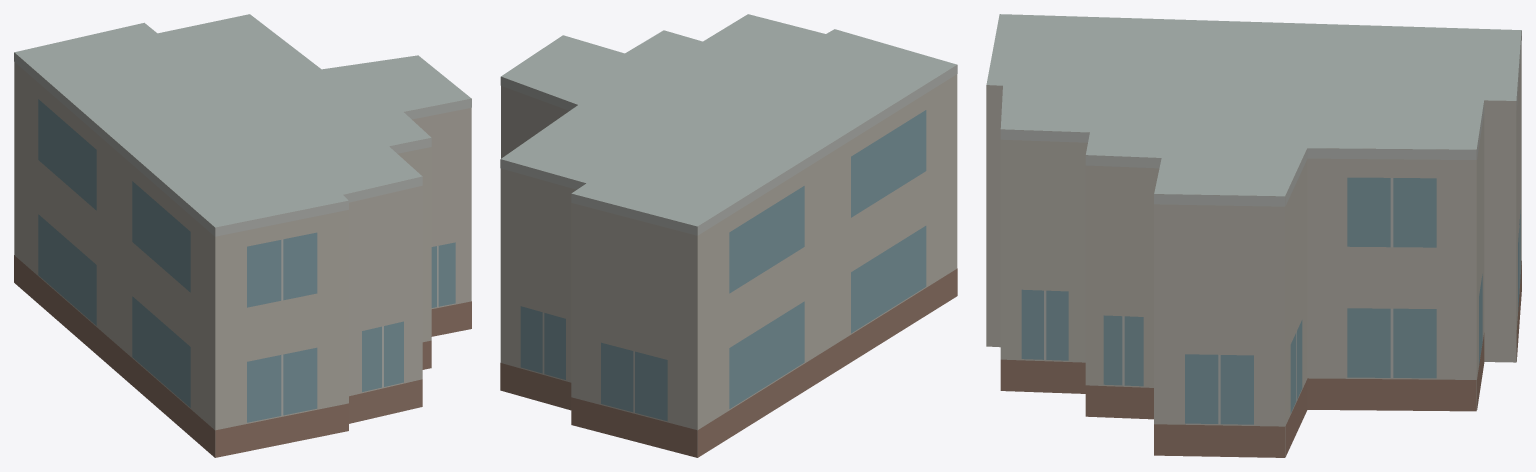
The model's file is survey-upis-32798603.glb.
The picture shows the model from 3 angles, left to right: view 1: azimuth 30°, elevation 25°; view 2: azimuth 150°, elevation 25°; view 3: azimuth 270°, elevation 25°; orthographic projection. The views are drawn at different scales.
Visible parts, largest first — view 1: survey-upis-32798603.tmp; view 2: survey-upis-32798603.tmp; view 3: survey-upis-32798603.tmp.
Boxes of the visible parts, x1=… form: survey-upis-32798603.tmp: x1=14, y1=14, x2=471, y2=457; survey-upis-32798603.tmp: x1=500, y1=14, x2=957, y2=457; survey-upis-32798603.tmp: x1=986, y1=14, x2=1521, y2=457.
Size of the model in its own units: 9.13 by 6.1 by 11.32.
